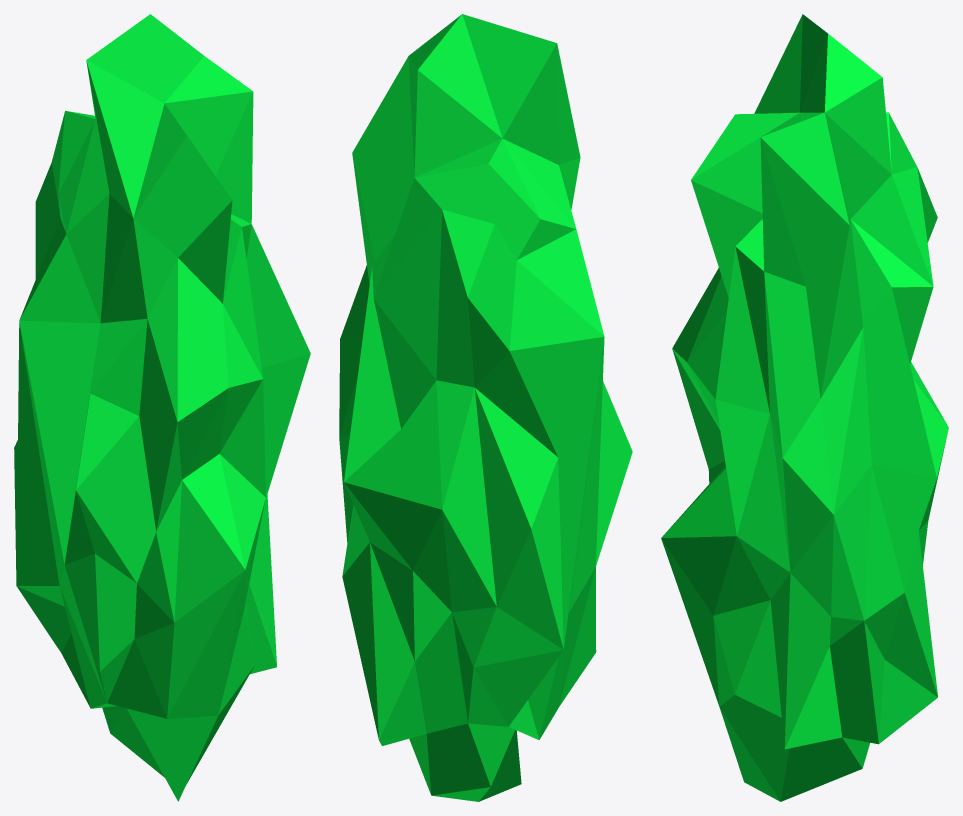
Rendered from Crystal_024.fbx.
3 renders of one model, left to right at view 1: azimuth 30°, elevation 25°; view 2: azimuth 150°, elevation 25°; view 3: azimuth 270°, elevation 25°, orthographic. The views are drawn at different scales.
Visible parts, largest first — view 1: Crystal.024; view 2: Crystal.024; view 3: Crystal.024.
Boxes of the visible parts, x1,y1,x2,y2 form: Crystal.024: (14, 14, 310, 801); Crystal.024: (339, 14, 632, 801); Crystal.024: (661, 14, 948, 801).
Bounding box in the file's own units: 228 × 613 × 209.
